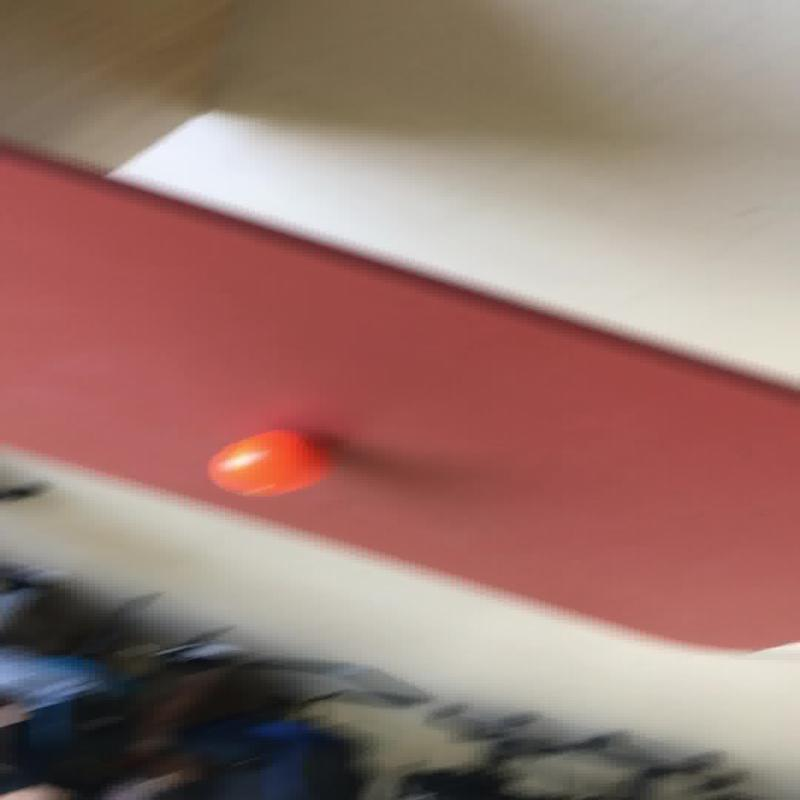orange: (204, 428, 330, 497)
